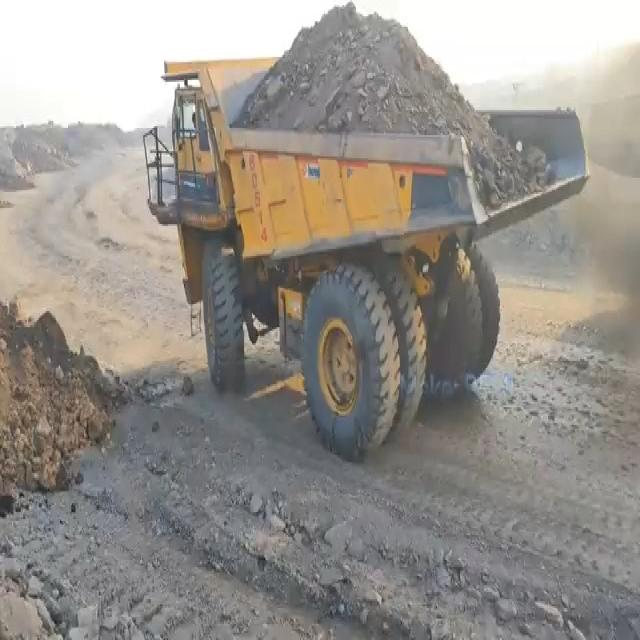dump_truck: (134, 52, 594, 460)
